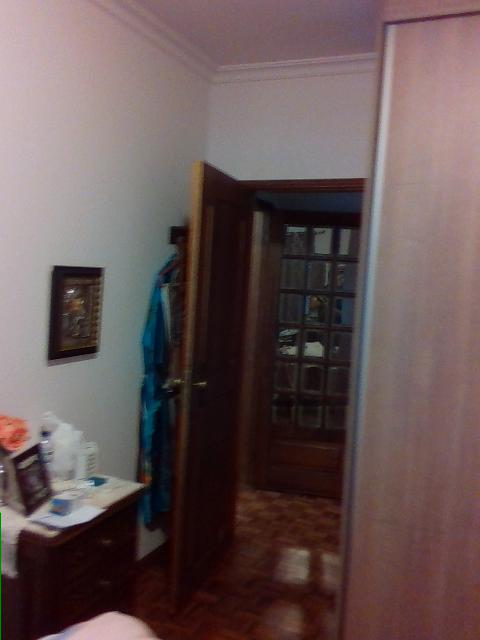door: (170, 159, 245, 618)
